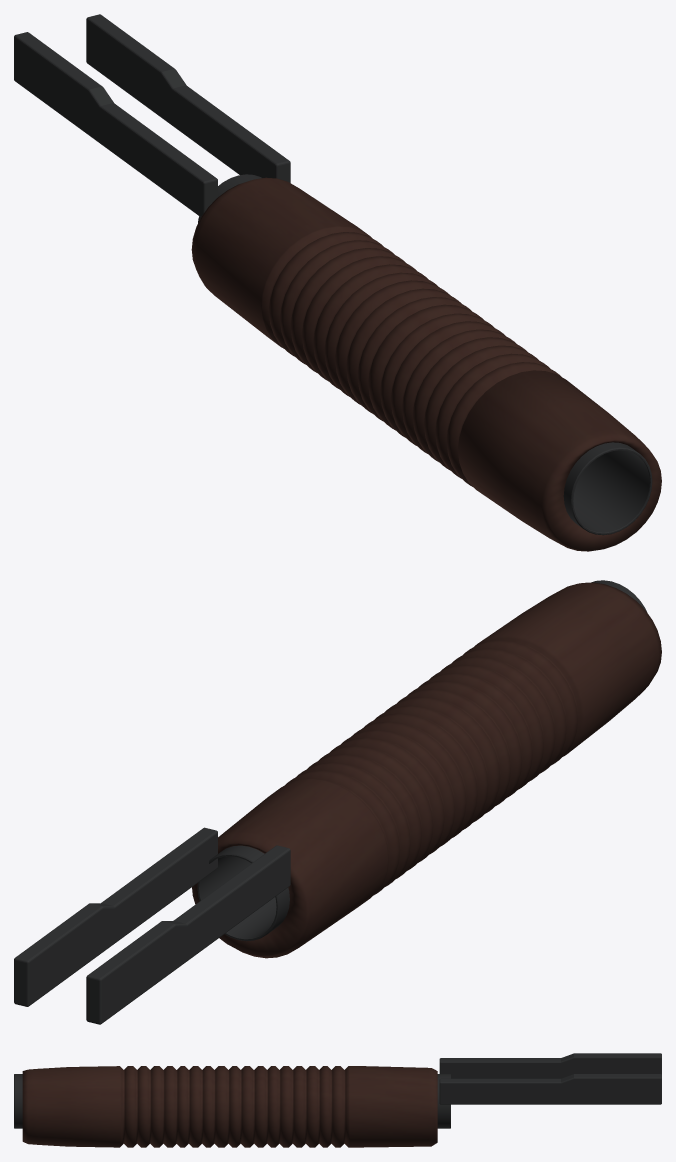
Rendered from SM_M590_Pump.fbx.
3 renders of one model, top to bottom at view 1: azimuth 30°, elevation 25°; view 2: azimuth 150°, elevation 25°; view 3: azimuth 270°, elevation 25°, orthographic. The views are drawn at different scales.
Visible parts, largest first — view 1: SM_M590_Pump; view 2: SM_M590_Pump; view 3: SM_M590_Pump.
Boxes of the visible parts, x1=… form: SM_M590_Pump: x1=14, y1=14, x2=661, y2=551; SM_M590_Pump: x1=14, y1=580, x2=661, y2=1024; SM_M590_Pump: x1=14, y1=1053, x2=661, y2=1147.
Size of the model in its own units: 4.2 by 31.85 by 4.23.
